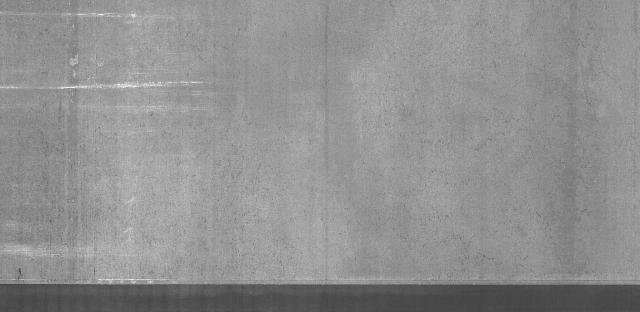welding_line: (2, 272, 640, 298)
